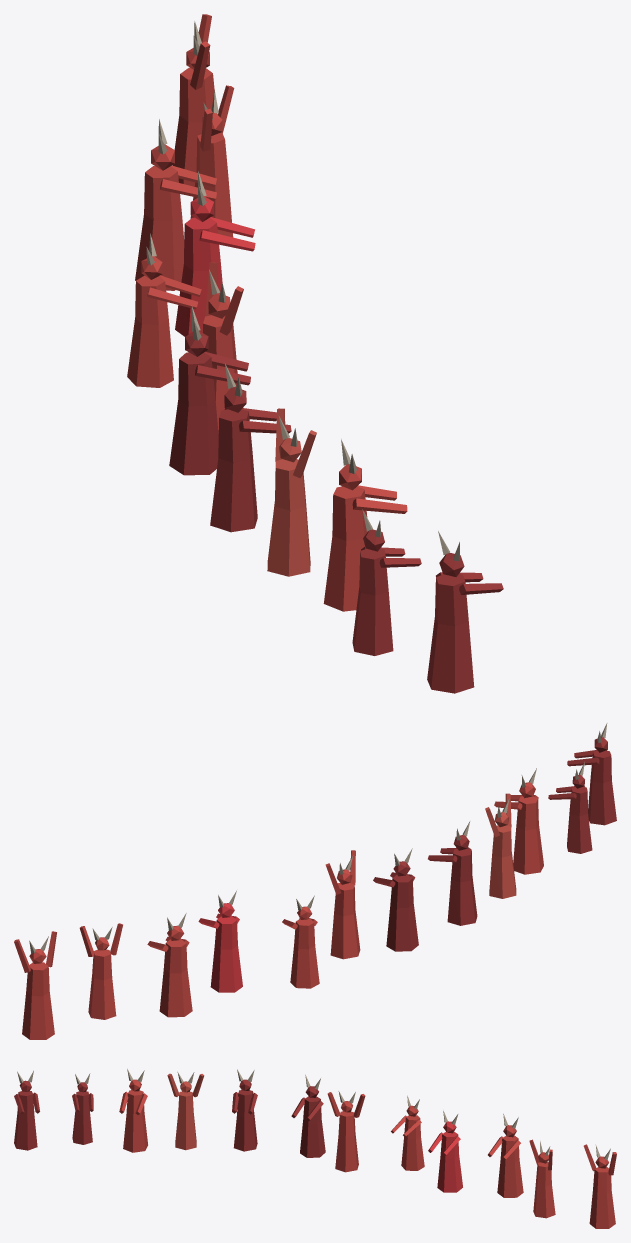
File: Stands_8_0_0_Ice.obj
The picture shows the model from 3 angles, top to bottom: view 1: azimuth 30°, elevation 25°; view 2: azimuth 150°, elevation 25°; view 3: azimuth 270°, elevation 25°; orthographic projection. The views are drawn at different scales.
Parts seen in each view (by area): view 1: Stands_8_0_0_Ice; view 2: Stands_8_0_0_Ice; view 3: Stands_8_0_0_Ice.
Part boxes in pixels (x1,y1,x2,y2): Stands_8_0_0_Ice: (127,14,503,693); Stands_8_0_0_Ice: (14,723,616,1039); Stands_8_0_0_Ice: (14,1069,616,1228).
Bounding box in the file's own units: 11.7 × 4.48 × 31.35.
1 material, 1 textured.
